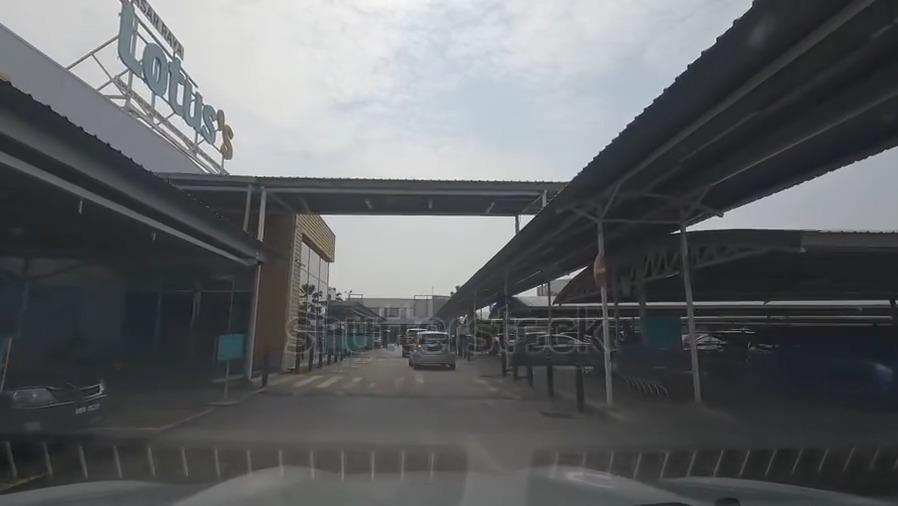car: (747, 325, 898, 395), (0, 345, 109, 439), (497, 334, 595, 363), (691, 326, 749, 363), (411, 330, 455, 369), (401, 325, 430, 359)
manhole: (269, 371, 539, 399), (540, 405, 575, 425)
